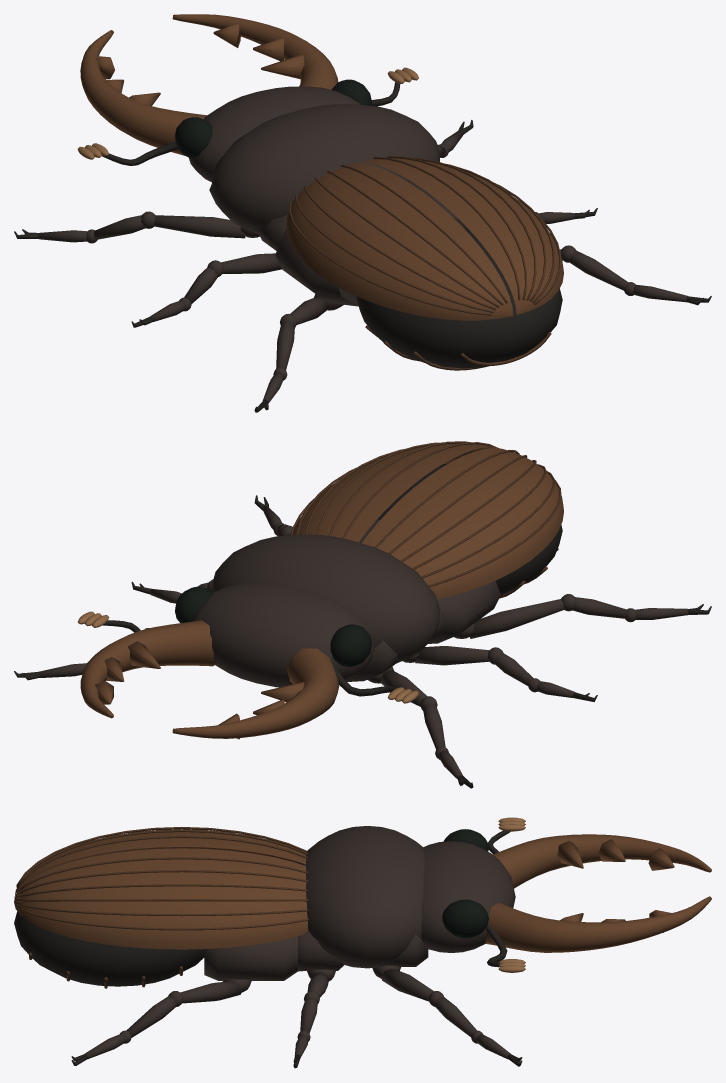
File: StagBeetle.fbx
3 views of the same model, one above another, from view 1: azimuth 30°, elevation 25°; view 2: azimuth 150°, elevation 25°; view 3: azimuth 270°, elevation 25° (orthographic). The views are drawn at different scales.
Visible parts, largest first — view 1: Material group StagBeetle_Elytra, Material group StagBeetle_Thorax, Material group StagBeetle_Joint, Material group StagBeetle_Striae, Material group StagBeetle_Eye, Material group StagBeetle_CuticleEdge; view 2: Material group StagBeetle_Thorax, Material group StagBeetle_Elytra, Material group StagBeetle_Striae, Material group StagBeetle_Joint, Material group StagBeetle_Eye, Material group StagBeetle_CuticleEdge; view 3: Material group StagBeetle_Elytra, Material group StagBeetle_Thorax, Material group StagBeetle_Joint, Material group StagBeetle_Striae, Material group StagBeetle_Eye, Material group StagBeetle_CuticleEdge.
Part boxes in pixels (<box>): Material group StagBeetle_Elytra: <box>80,14,563,320</box>; Material group StagBeetle_Thorax: <box>38,86,687,403</box>; Material group StagBeetle_Joint: <box>14,82,711,412</box>; Material group StagBeetle_Striae: <box>288,156,561,370</box>; Material group StagBeetle_Eye: <box>175,79,371,158</box>; Material group StagBeetle_CuticleEdge: <box>77,67,418,159</box>; Material group StagBeetle_Thorax: <box>39,506,688,779</box>; Material group StagBeetle_Elytra: <box>80,443,563,739</box>; Material group StagBeetle_Striae: <box>290,441,561,598</box>; Material group StagBeetle_Joint: <box>14,463,711,788</box>; Material group StagBeetle_Eye: <box>175,586,371,667</box>; Material group StagBeetle_CuticleEdge: <box>78,611,418,703</box>; Material group StagBeetle_Elytra: <box>14,829,711,952</box>; Material group StagBeetle_Thorax: <box>84,826,515,1059</box>; Material group StagBeetle_Joint: <box>14,830,522,1068</box>; Material group StagBeetle_Striae: <box>16,827,308,988</box>; Material group StagBeetle_Eye: <box>442,829,488,938</box>; Material group StagBeetle_CuticleEdge: <box>498,817,525,972</box>.
Bounding box in the file's own units: 0.7205 × 0.2052 × 1.
